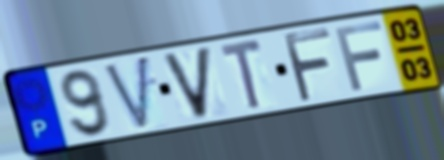9: (58, 67, 111, 138)
F: (279, 26, 335, 106), (332, 18, 386, 94)
T: (217, 36, 266, 114)
V: (158, 43, 214, 122), (100, 52, 152, 134)
